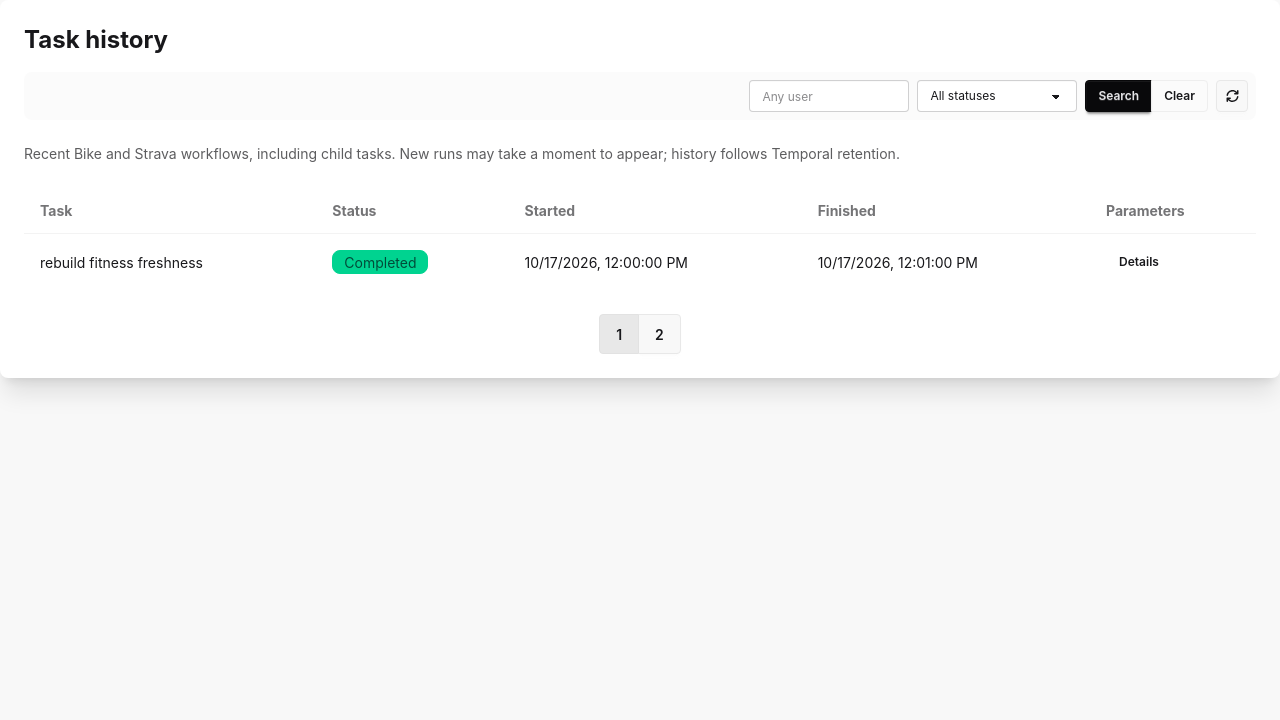
shows parameter loading or unavailable retained history
The width and height of the screenshot is (1280, 720).
Click the button "Details": (1139, 262) 1106,246 -> 1172,278
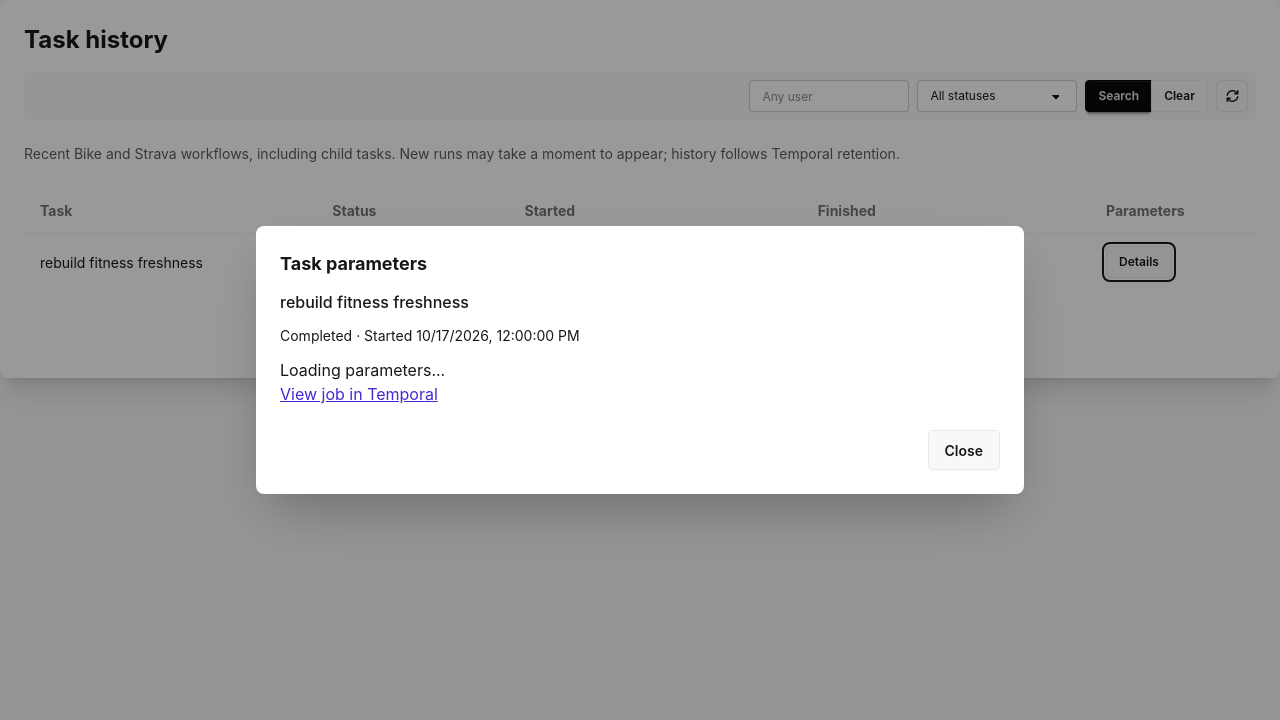
Check: the text "Loading parameters..." is shown, box 280,360 -> 445,380
